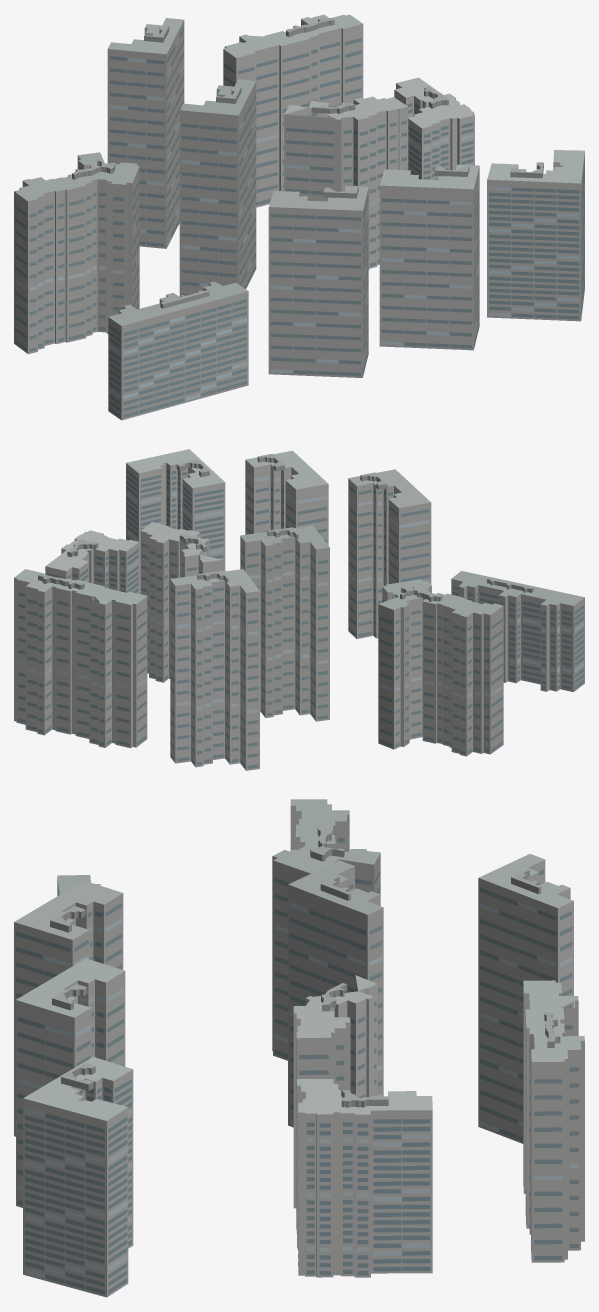
Rendered from apt-a13483604.glb.
3 renders of one model, top to bottom at view 1: azimuth 30°, elevation 25°; view 2: azimuth 150°, elevation 25°; view 3: azimuth 270°, elevation 25°, orthographic. The views are drawn at different scales.
Parts seen in each view (by area): view 1: apt-a13483604; view 2: apt-a13483604; view 3: apt-a13483604.
Boxes of the visible parts, <box> form: apt-a13483604: <box>14,14,584,420</box>; apt-a13483604: <box>14,449,584,770</box>; apt-a13483604: <box>14,799,584,1297</box>.
Size of the model in its own units: 242 by 95 by 192.
